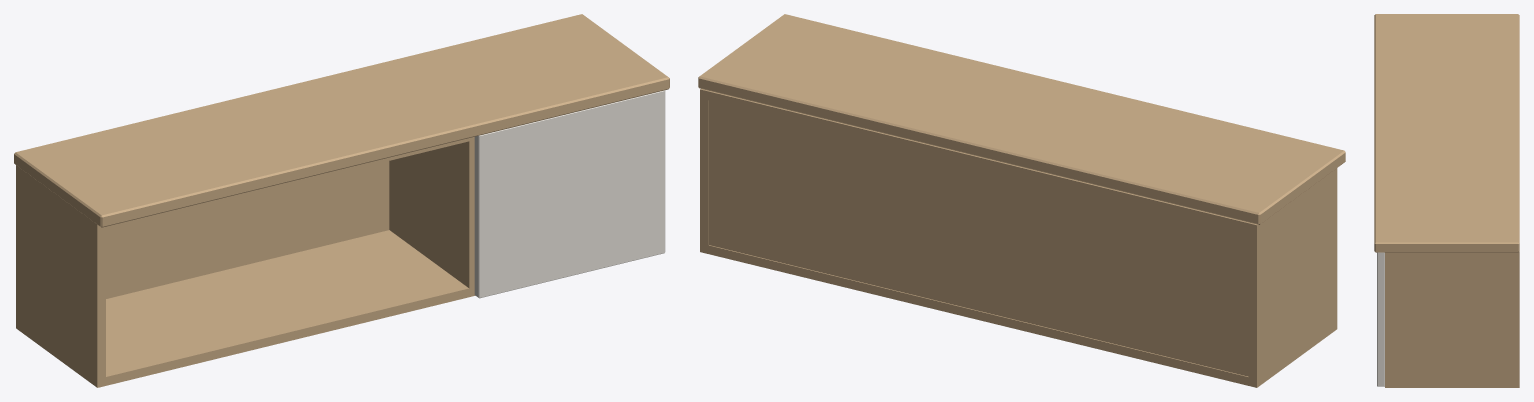
File: 49_szafka_wiszaca_120.glb
3 views of the same model, side by side, from view 1: azimuth 30°, elevation 25°; view 2: azimuth 150°, elevation 25°; view 3: azimuth 270°, elevation 25° (orthographic). The views are drawn at different scales.
Visible parts, largest first — view 1: Korpus, Wierzch, Front_drzwi_2; view 2: Korpus, Wierzch; view 3: Wierzch, Korpus, Front_drzwi_2.
Part boxes in pixels (x1,y1,x2,y2): Korpus: (16, 137, 475, 387); Wierzch: (14, 14, 669, 227); Front_drzwi_2: (474, 90, 665, 298); Korpus: (700, 89, 1337, 387); Wierzch: (698, 14, 1345, 224); Wierzch: (1374, 14, 1519, 252); Korpus: (1385, 251, 1519, 387); Front_drzwi_2: (1377, 252, 1384, 386).
Size of the model in its own units: 1.21 by 0.36 by 0.324.
